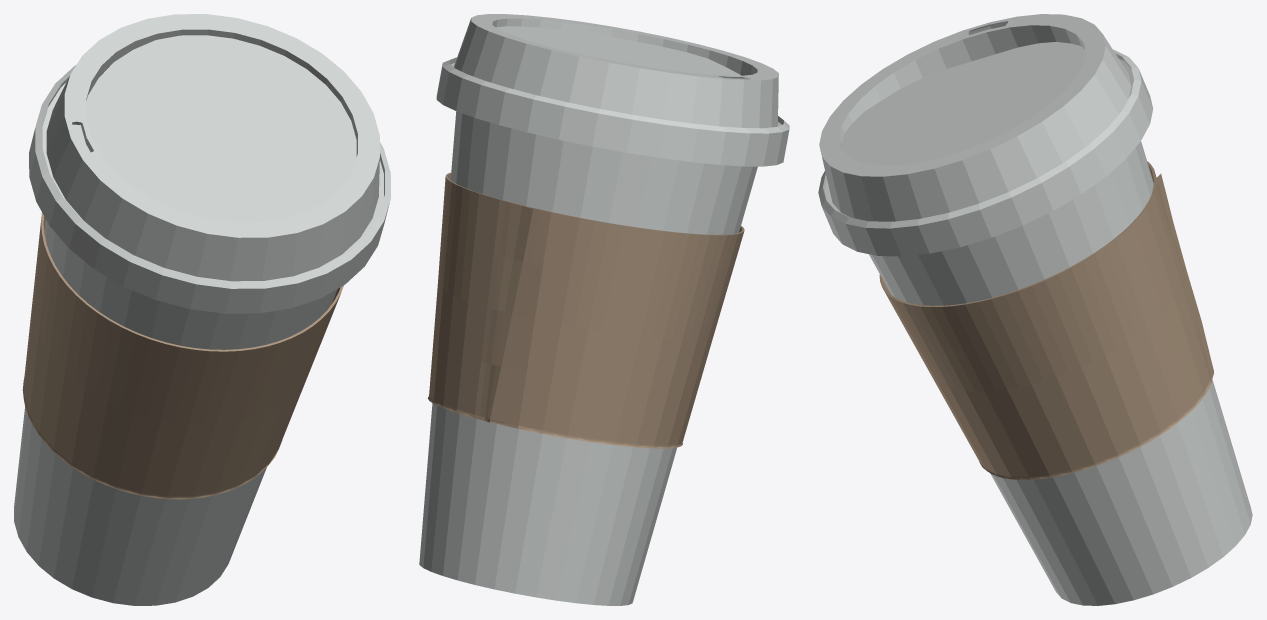
The model's file is coffeeCup8-10-20.gltf.
The picture shows the model from 3 angles, left to right: view 1: azimuth 30°, elevation 25°; view 2: azimuth 150°, elevation 25°; view 3: azimuth 270°, elevation 25°; orthographic projection. The views are drawn at different scales.
Visible parts, largest first — view 1: Circle.001, Circle.002, Circle.003; view 2: Circle.002, Circle.003, Circle.001; view 3: Circle.001, Circle.002, Circle.003.
Part boxes in pixels (left/top/right/bottom): Circle.001: left=29, top=14, right=390, bottom=313; Circle.002: left=22, top=212, right=343, bottom=499; Circle.003: left=14, top=219, right=337, bottom=605; Circle.002: left=428, top=172, right=744, bottom=448; Circle.003: left=419, top=111, right=757, bottom=605; Circle.001: left=436, top=14, right=789, bottom=166; Circle.001: left=818, top=14, right=1152, bottom=256; Circle.002: left=879, top=161, right=1213, bottom=479; Circle.003: left=869, top=141, right=1252, bottom=605.
Size of the model in its own units: 116 by 199 by 146.
